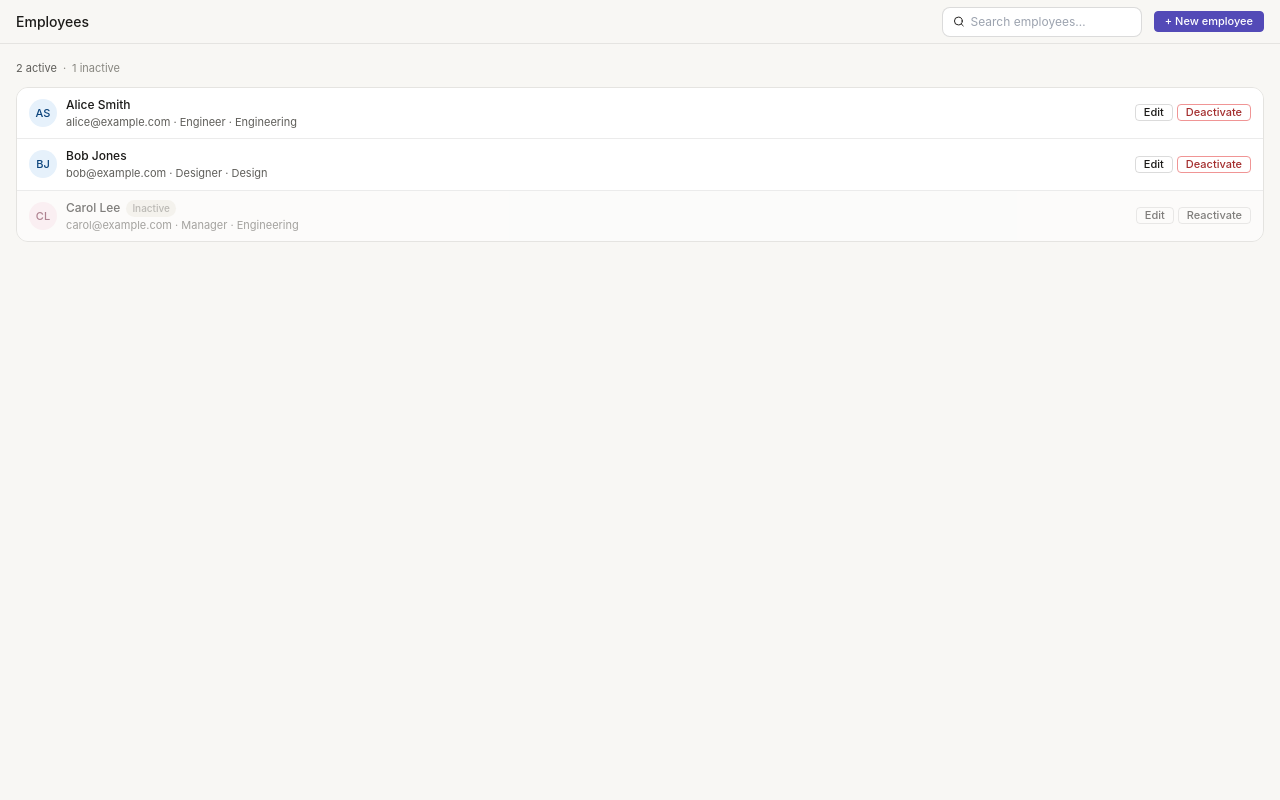
Test case: EmployeesPage › opens edit modal pre-filled with employee data
The width and height of the screenshot is (1280, 800).
Expected: the text "Alice Smith" is shown, [66,96,130,112]
Step 1. Click the button "Edit" in the row of "· Engineer · Engineering" → point(1154, 113), box [1135,104,1173,121]
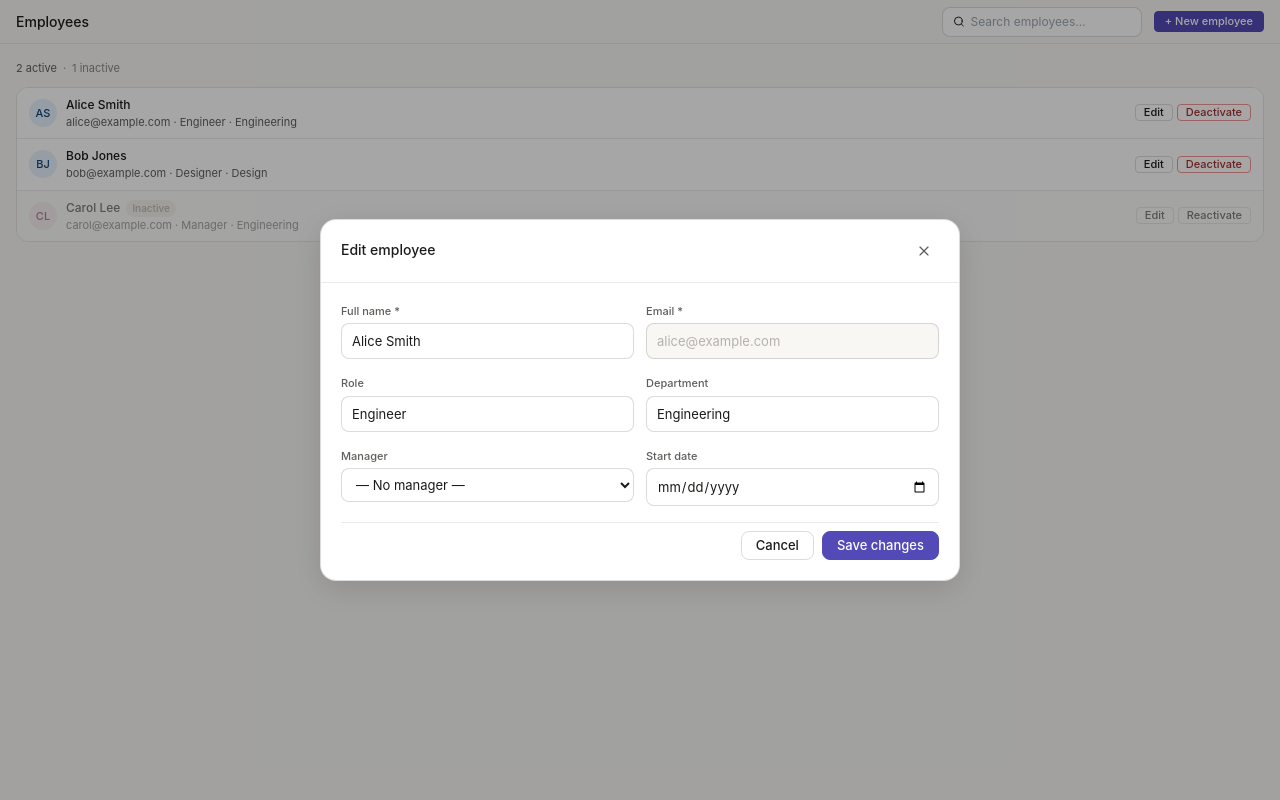
Result: the dialog is shown at [320,218,960,581]
Result: the heading "Edit employee" is shown at [341,241,435,260]
Result: the field with placeholder "Jane Smith" holds "Alice Smith" at [341,323,634,359]
